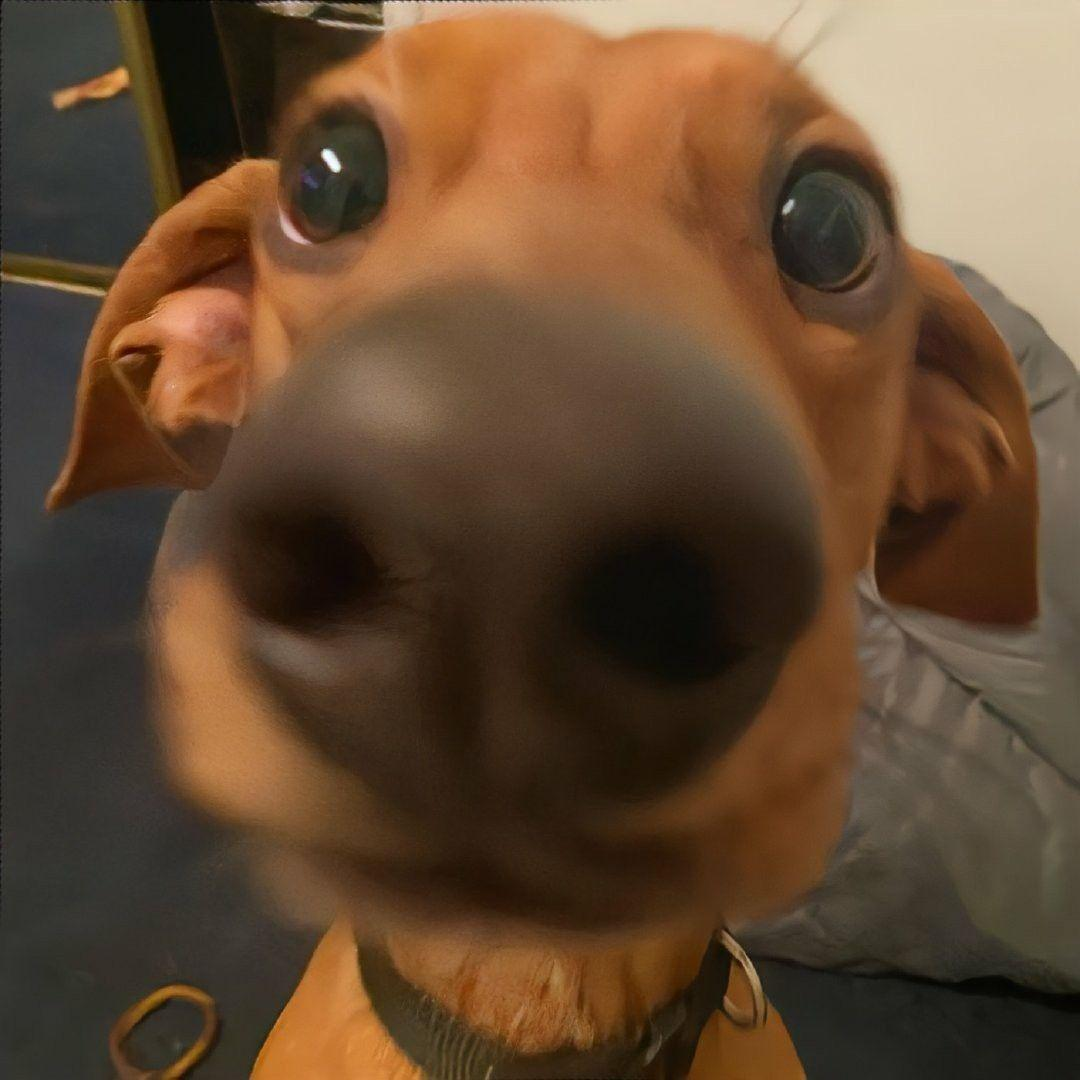adult_dog: (44, 9, 1046, 1080)
